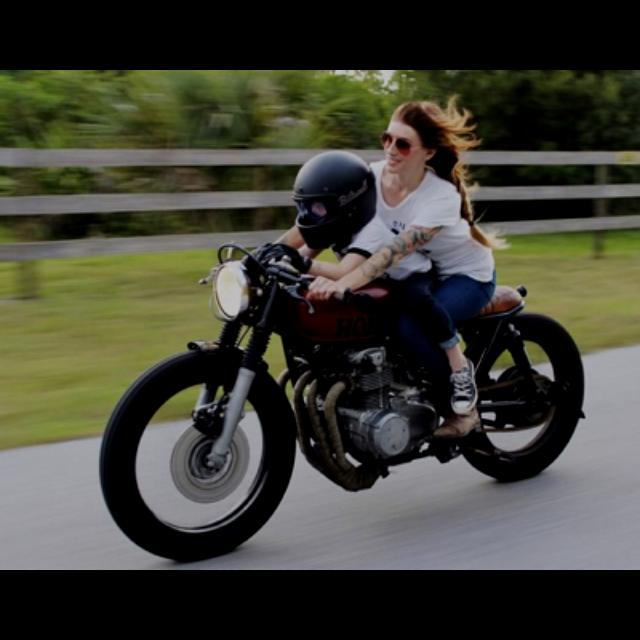With Helmet: (282, 146, 378, 238)
Without Helmet: (372, 88, 466, 176)
